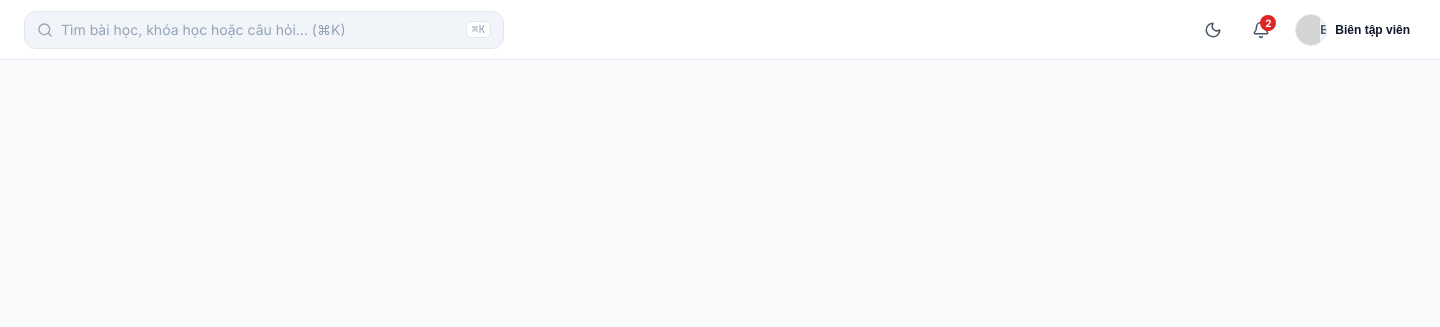
it: Topbar Header & Authentication Navigation (P20-000) › Authenticated Role-Specific Navigation › shows "Quản lý nội dung" inside dropdown for content staff
What coordinates should you click on to do the following:
click the button with aria-label "Menu tài khoản"
I would click on:
 (1353, 30)
Its box is 1289,10 -> 1416,50.
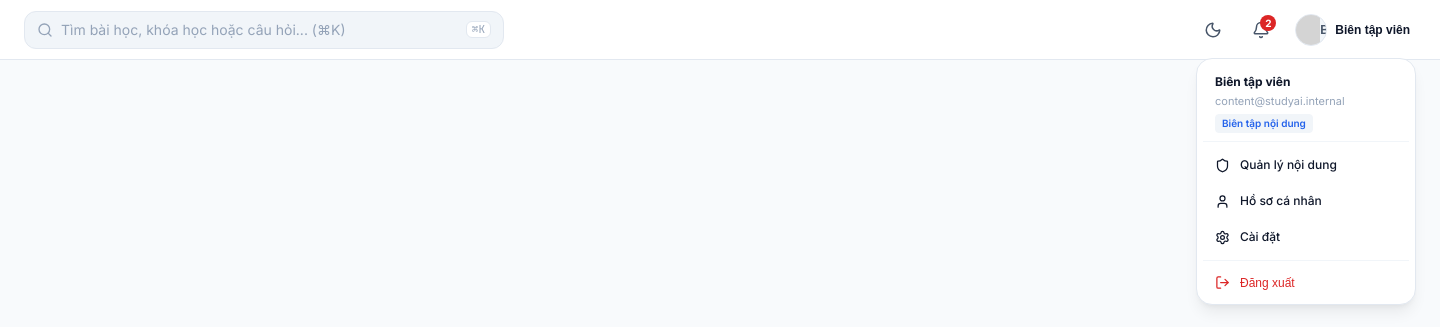
expect the menu item "Quản lý nội dung" is shown: met, box 1215,157 -> 1337,172
expect the text "Biên tập nội dung" is shown: met, box 1215,114 -> 1313,133
